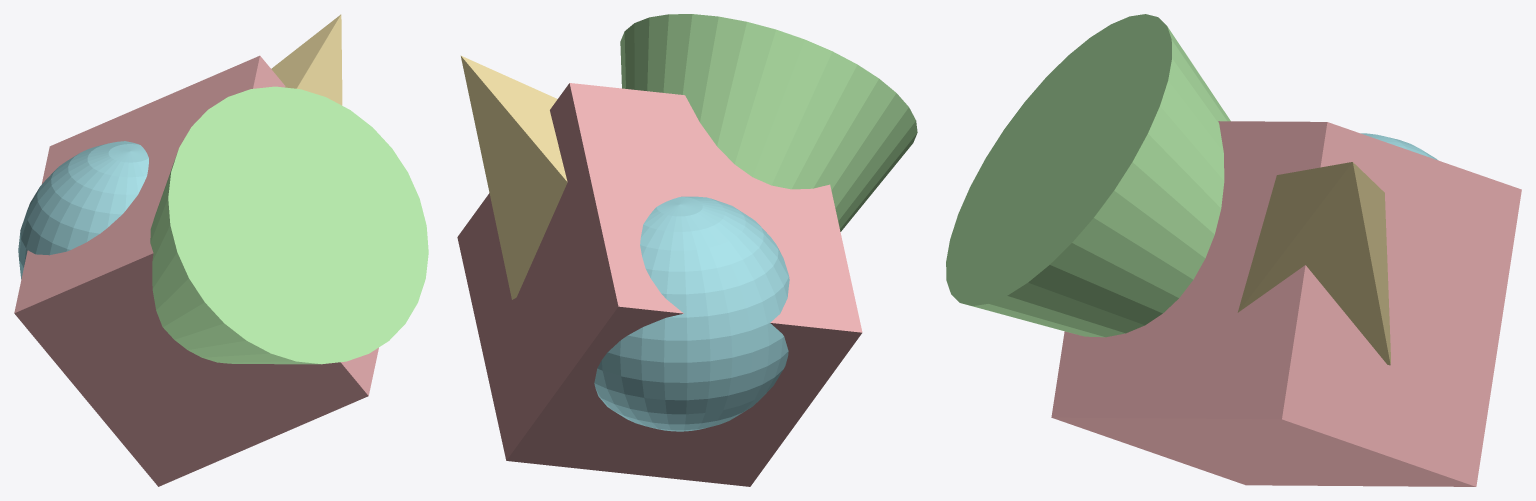
The model's file is brazo-amebaPlayerMKII.glb.
The picture shows the model from 3 angles, left to right: view 1: azimuth 30°, elevation 25°; view 2: azimuth 150°, elevation 25°; view 3: azimuth 270°, elevation 25°; orthographic projection. The views are drawn at different scales.
Parts seen in each view (by area): view 1: Cylinder, Cube, Sphere, Cone; view 2: Cube, Cylinder, Sphere, Cone; view 3: Cube, Cylinder, Cone.
Boxes of the visible parts, box(x1,y1,x2,y2) form: Cylinder: box(150, 86, 428, 364); Cube: box(14, 55, 378, 486); Sphere: box(18, 141, 148, 279); Cone: box(271, 14, 342, 105); Cube: box(457, 83, 862, 486); Cylinder: box(620, 14, 917, 231); Sphere: box(594, 196, 789, 431); Cone: box(461, 55, 567, 299); Cube: box(1051, 121, 1521, 486); Cylinder: box(946, 14, 1230, 337); Cone: box(1237, 162, 1390, 365).
Bounding box in the file's own units: 2.61 × 2.63 × 2.85.
